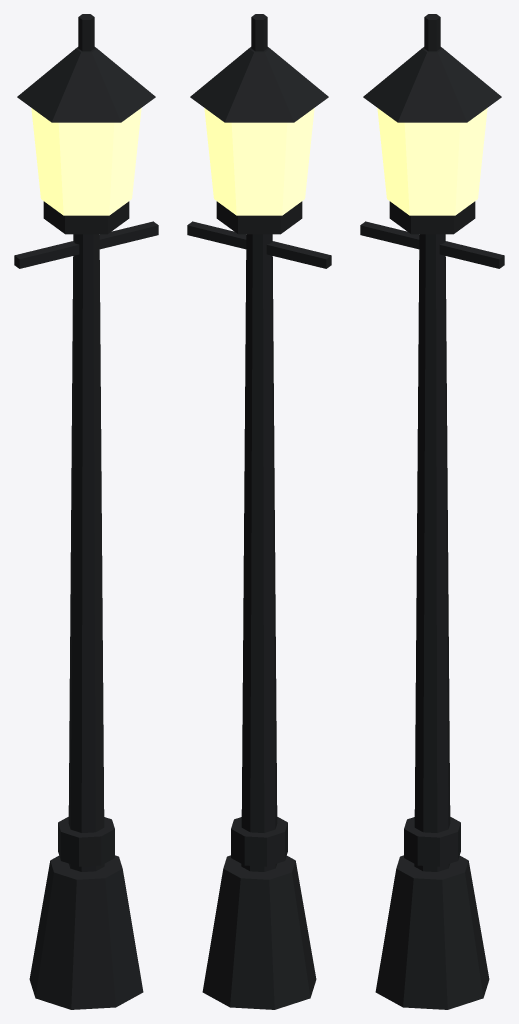
Rendered from gas_lamp.glb.
3 views of the same model, side by side, from view 1: azimuth 30°, elevation 25°; view 2: azimuth 150°, elevation 25°; view 3: azimuth 330°, elevation 25° (orthographic).
Visible parts, largest first — view 1: base; view 2: base; view 3: base.
Part boxes in pixels (x1,y1,x2,y2): base: [14, 14, 158, 1009]; base: [187, 14, 331, 1009]; base: [360, 14, 504, 1009].
Bounding box in the file's own units: 0.6 × 3.99 × 0.52.
